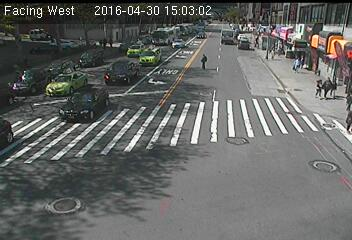neg: (64, 168, 88, 200), (241, 158, 263, 187), (105, 188, 127, 217), (215, 126, 234, 151), (305, 129, 324, 154), (269, 133, 286, 156), (105, 132, 120, 151), (14, 94, 28, 112), (25, 26, 38, 44), (206, 87, 219, 104), (46, 174, 58, 191), (50, 110, 62, 126), (34, 66, 46, 82), (53, 51, 65, 67), (32, 135, 44, 151), (246, 93, 257, 108), (155, 83, 166, 98), (144, 131, 155, 145), (198, 190, 209, 204), (188, 161, 198, 175), (292, 96, 302, 110), (69, 30, 79, 43), (104, 161, 113, 173), (183, 22, 192, 34), (146, 51, 153, 61), (274, 85, 280, 94), (96, 92, 102, 99), (238, 74, 243, 81), (184, 86, 188, 91), (136, 69, 139, 73)
pos: (319, 75, 337, 98), (311, 75, 328, 98), (290, 54, 305, 73), (196, 52, 209, 68), (251, 34, 263, 50), (105, 34, 115, 48), (100, 36, 110, 49), (98, 36, 104, 45), (239, 24, 244, 30)
